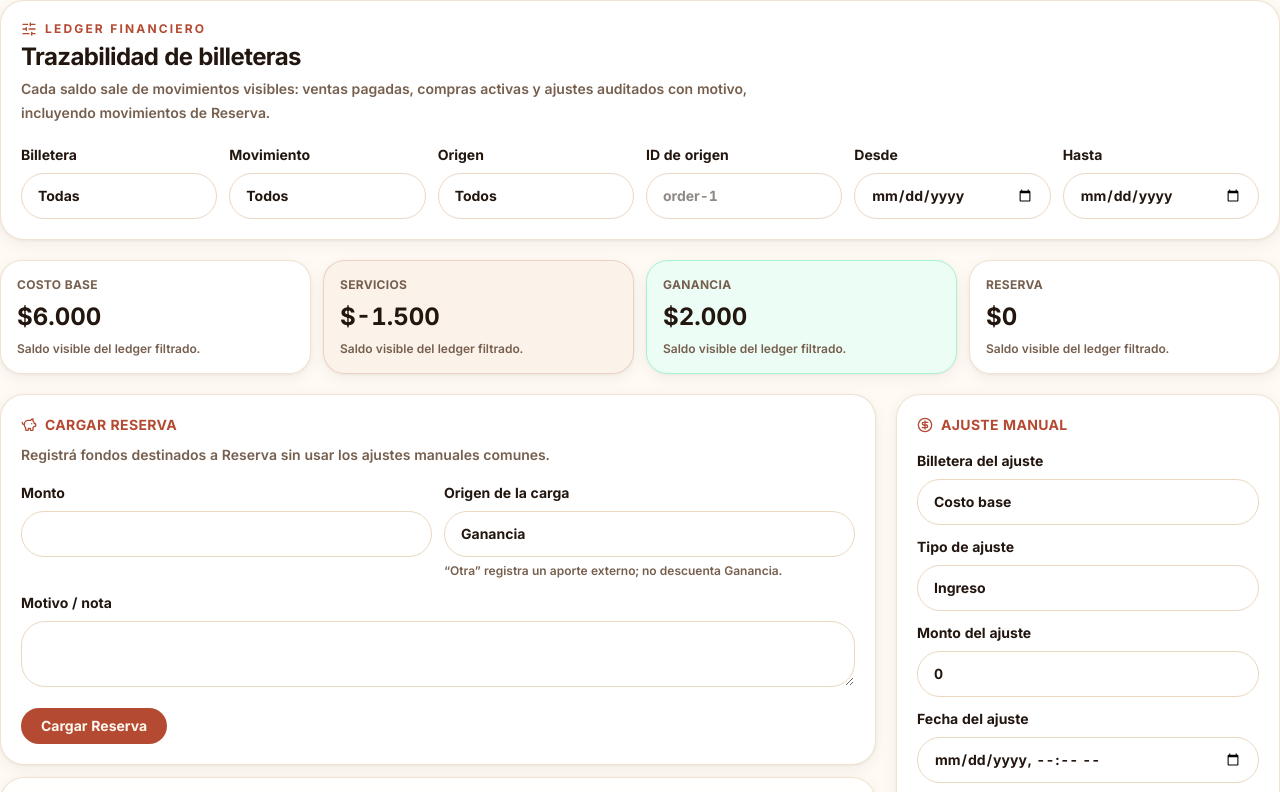
Test: FinanceWalletLedger › loads reserve from profit and clears the form after success
Type "1500.25" into the number field labelled "Monto" at (226, 534), box left=21, top=511, right=432, bottom=557
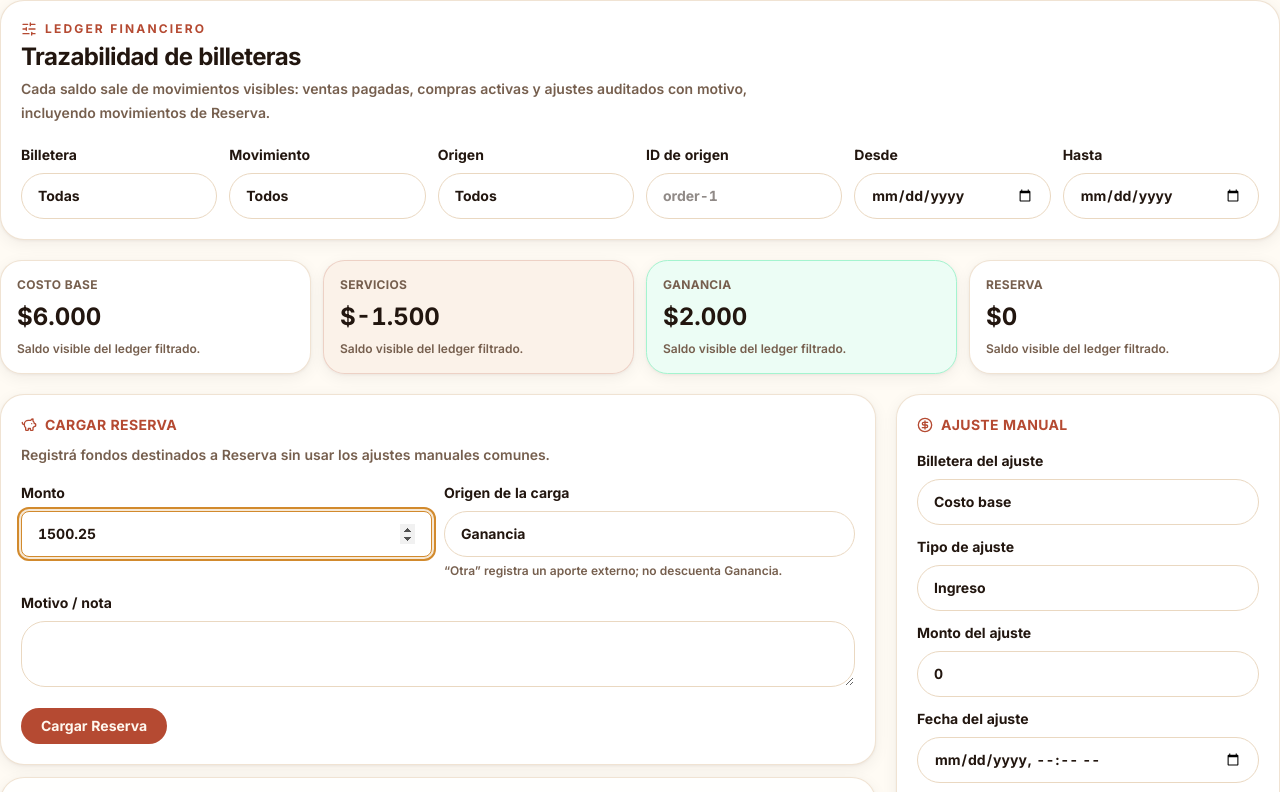
Type "Fondo de emergencia" into the text box labelled "Motivo / nota" at (438, 654), box left=21, top=621, right=855, bottom=687
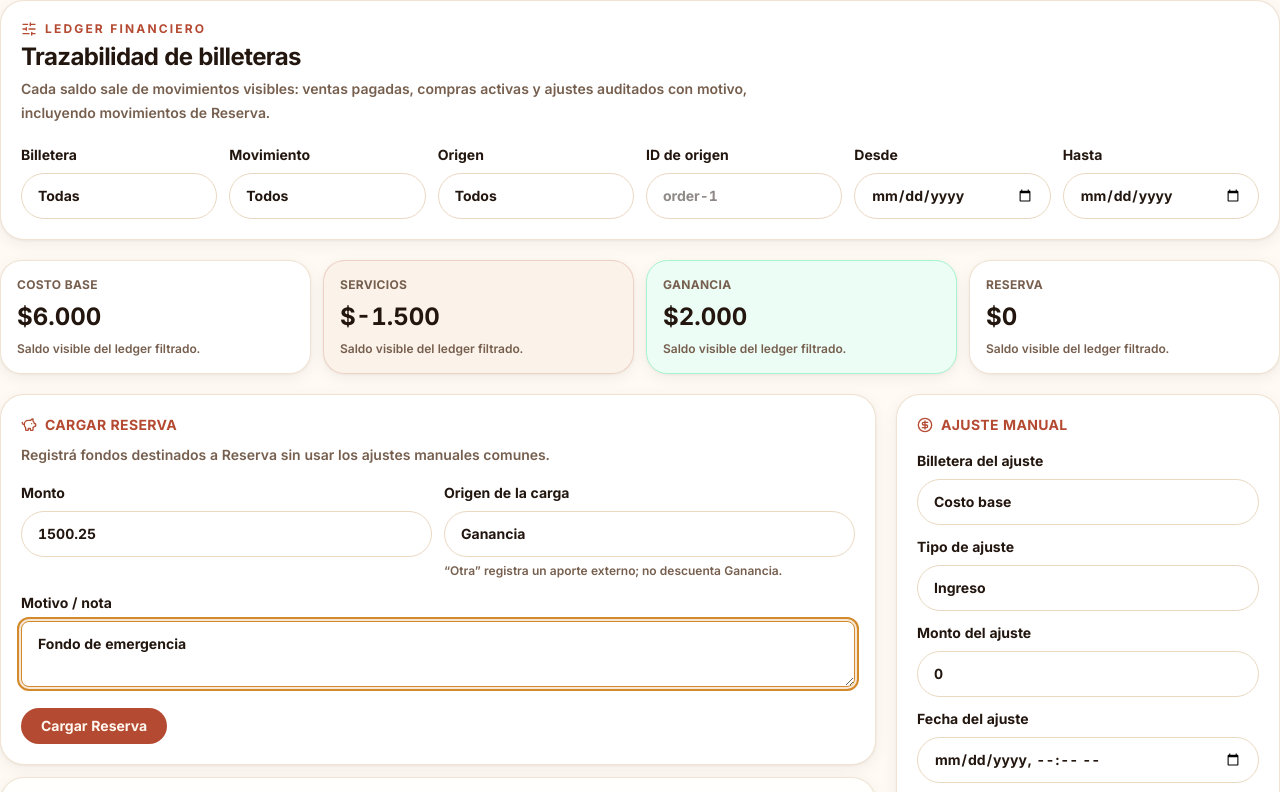
Click the button "Cargar Reserva" at (94, 726), box left=21, top=708, right=167, bottom=744
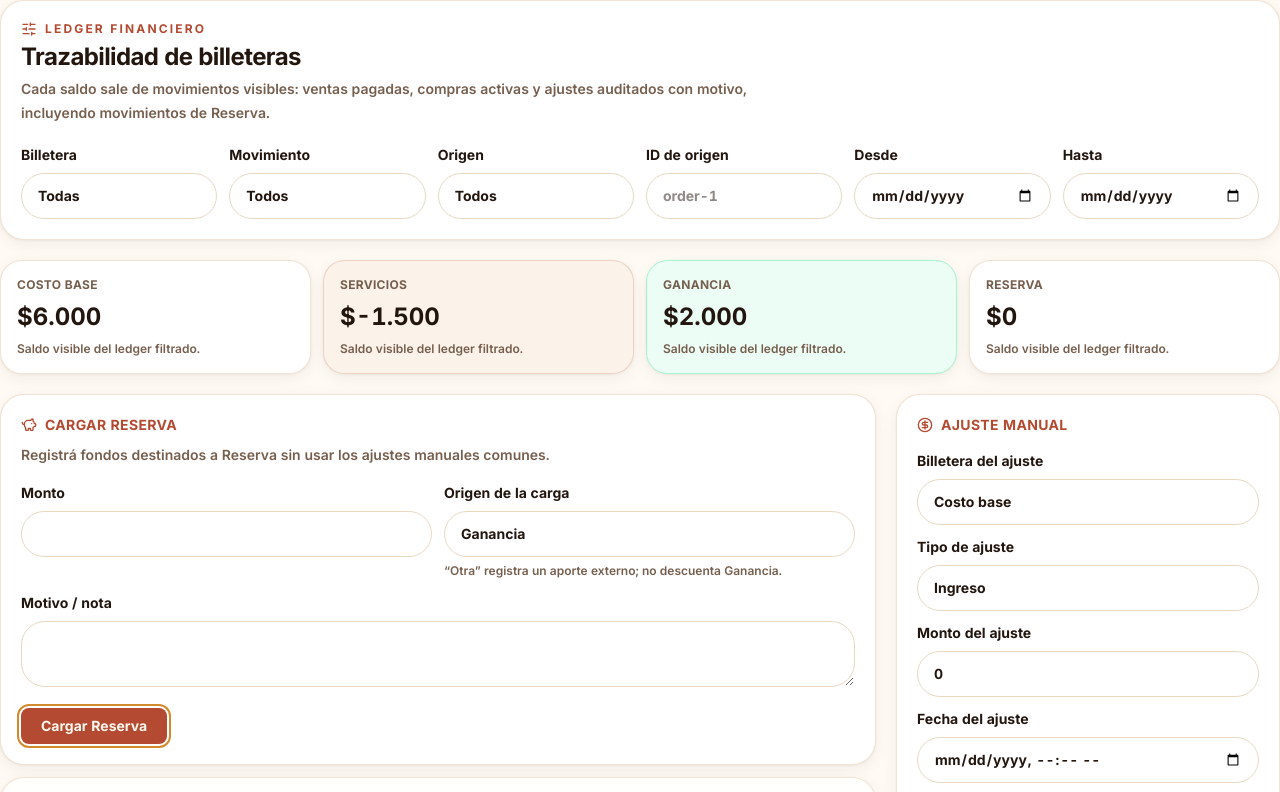
Check: the dropdown labelled "Origen de la carga" shows "Ganancia", box left=444, top=511, right=855, bottom=557
Check: the number field labelled "Monto" is not empty, box left=21, top=511, right=432, bottom=557
Check: the text box labelled "Motivo / nota" is empty, box left=21, top=621, right=855, bottom=687
